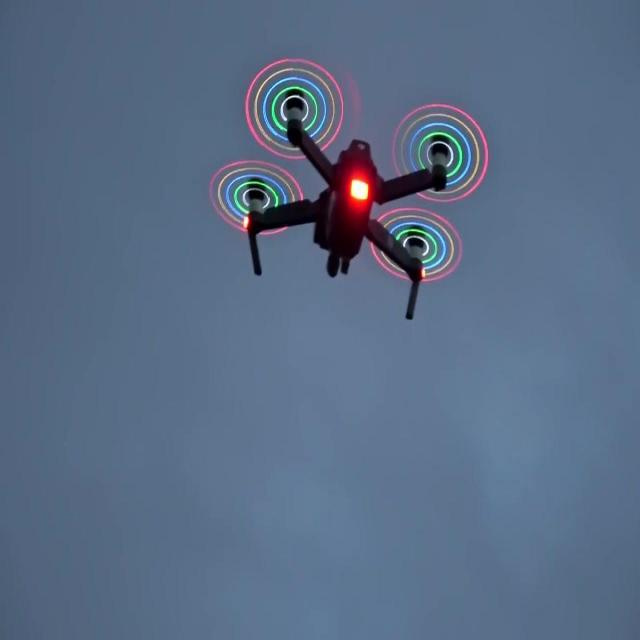UAV: (208, 57, 488, 322)
